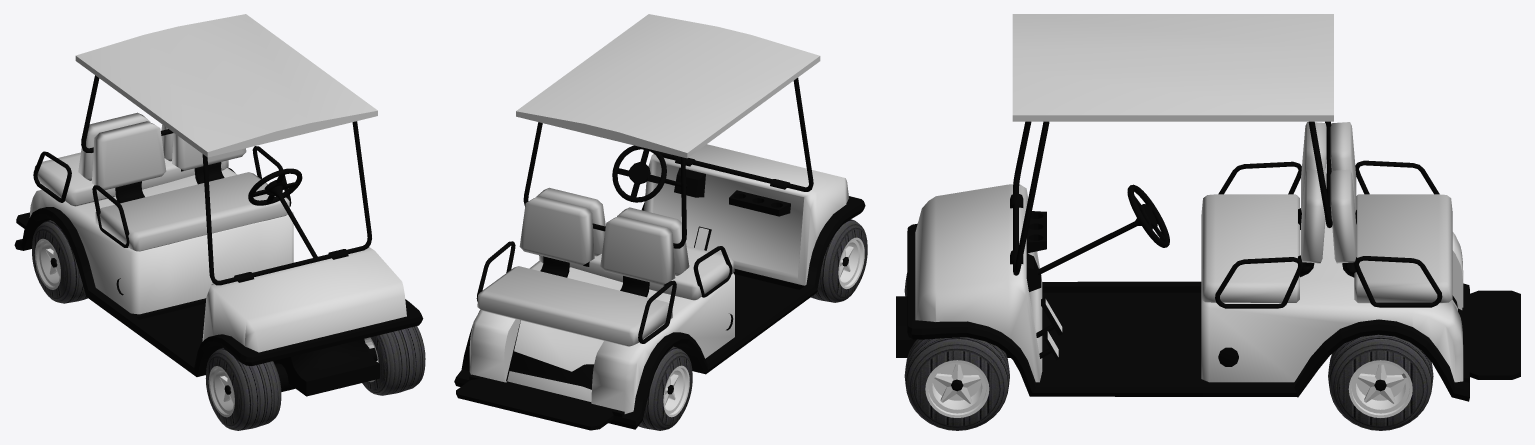
Rendered from golf_cart.glb.
The picture shows the model from 3 angles, left to right: view 1: azimuth 30°, elevation 25°; view 2: azimuth 150°, elevation 25°; view 3: azimuth 270°, elevation 25°; orthographic projection. The views are drawn at different scales.
Visible parts, largest first — view 1: Ceiling, Front seat, Hood, Rear hood, Floor, Rear seat, Frontal tire.001, Frontal tire, Ceiling support, Rear tire.001, Stering wheel, Frontal rim.001 (+4 smaller); view 2: Ceiling, Rear seat, Hood, Rear hood, Floor, Front seat, Foot support, Frontal tire.001, Rear tire.001, Stering wheel, Ceiling support, Ceiling support.001 (+6 smaller); view 3: Ceiling, Floor, Hood, Rear hood, Rear seat, Front seat, Frontal tire, Rear tire, Foot support, Rear rim, Frontal rim, Ceiling support (+7 smaller).
Boxes of the visible parts, x1,y1,x2,y2 form: Ceiling: [75, 14, 377, 157]; Front seat: [92, 121, 289, 251]; Hood: [202, 247, 406, 352]; Rear hood: [29, 167, 293, 314]; Floor: [14, 167, 423, 396]; Rear seat: [34, 112, 228, 206]; Frontal tire.001: [205, 348, 281, 430]; Frontal tire: [362, 326, 425, 395]; Ceiling support: [202, 121, 371, 285]; Rear tire.001: [32, 220, 87, 303]; Stering wheel: [248, 168, 317, 257]; Frontal rim.001: [208, 366, 234, 417]; Ceiling: [516, 14, 820, 158]; Rear seat: [477, 196, 675, 346]; Hood: [644, 144, 848, 285]; Rear hood: [469, 261, 734, 413]; Floor: [454, 196, 865, 429]; Front seat: [536, 187, 734, 300]; Foot support: [456, 374, 624, 430]; Frontal tire.001: [811, 219, 867, 302]; Rear tire.001: [638, 346, 692, 430]; Stering wheel: [612, 145, 687, 202]; Ceiling support: [660, 78, 813, 191]; Ceiling support.001: [523, 122, 686, 248]; Ceiling: [1012, 14, 1333, 121]; Floor: [896, 223, 1469, 401]; Hood: [915, 184, 1042, 382]; Rear hood: [1201, 214, 1463, 382]; Rear seat: [1330, 122, 1452, 303]; Front seat: [1201, 122, 1326, 302]; Frontal tire: [904, 337, 1009, 430]; Rear tire: [1328, 334, 1433, 430]; Foot support: [1462, 288, 1520, 382]; Rear rim: [1348, 360, 1412, 417]; Frontal rim: [925, 360, 989, 417]; Ceiling support: [1010, 121, 1049, 275].
Bounding box in the file's own units: 3.39 × 4.56 × 8.03.
Materials: 7 (1 with a texture image).
